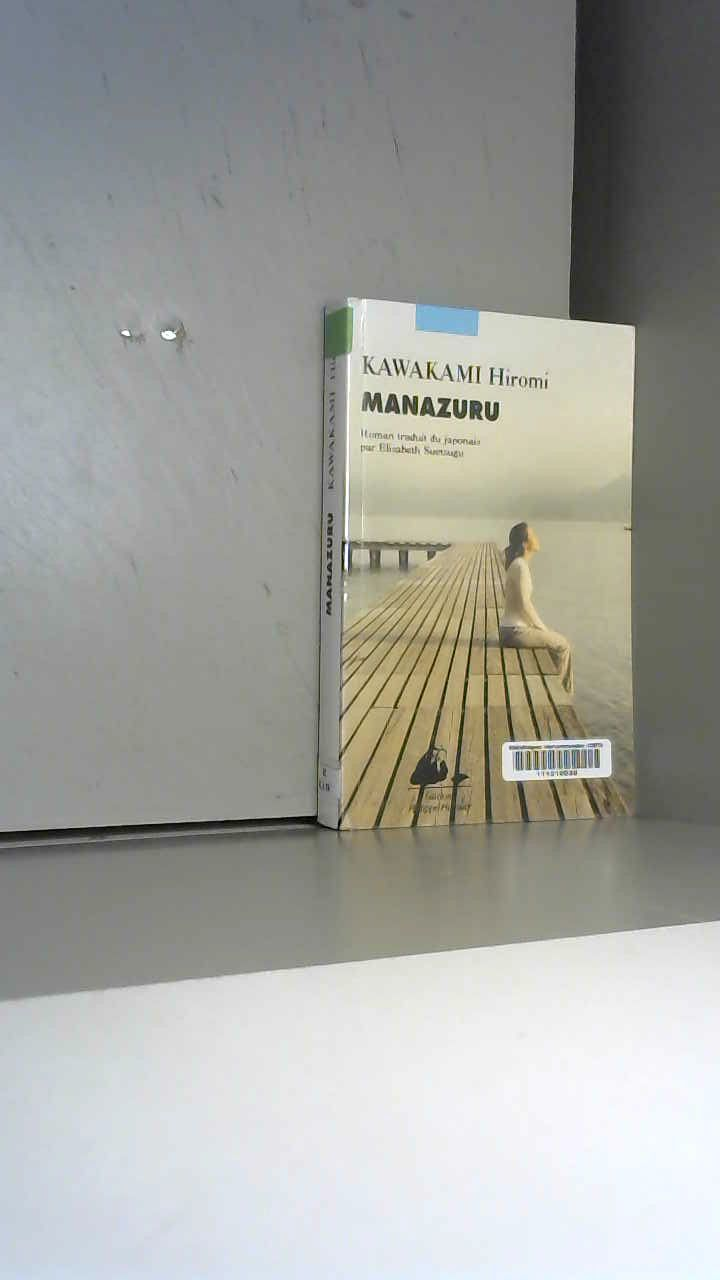book: (290, 270, 720, 939)
